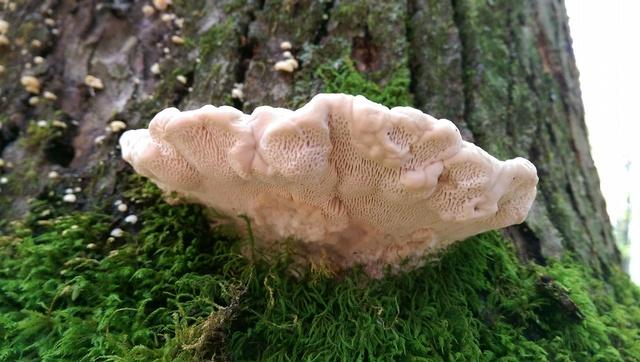poisonous_mushroom: (117, 91, 540, 284)
